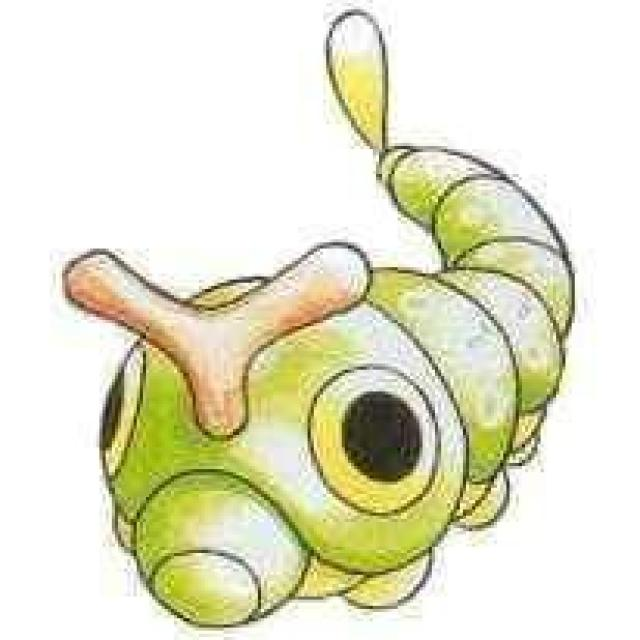Caterpie: (76, 117, 570, 616)
